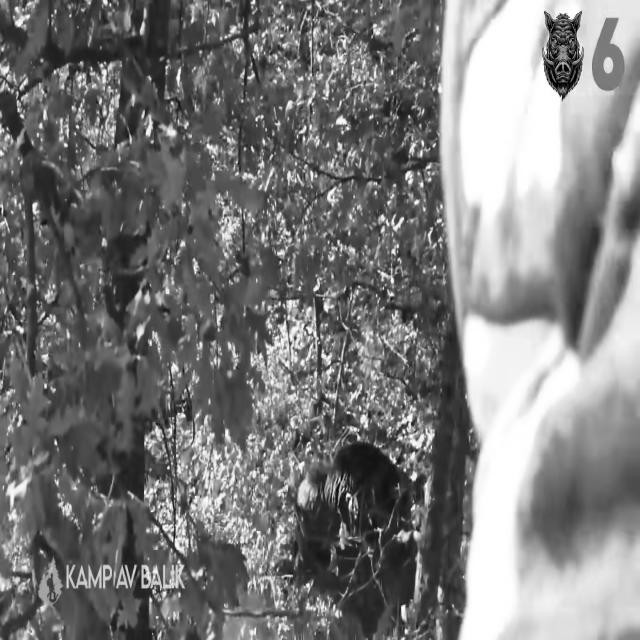boar: (297, 442, 416, 635)
